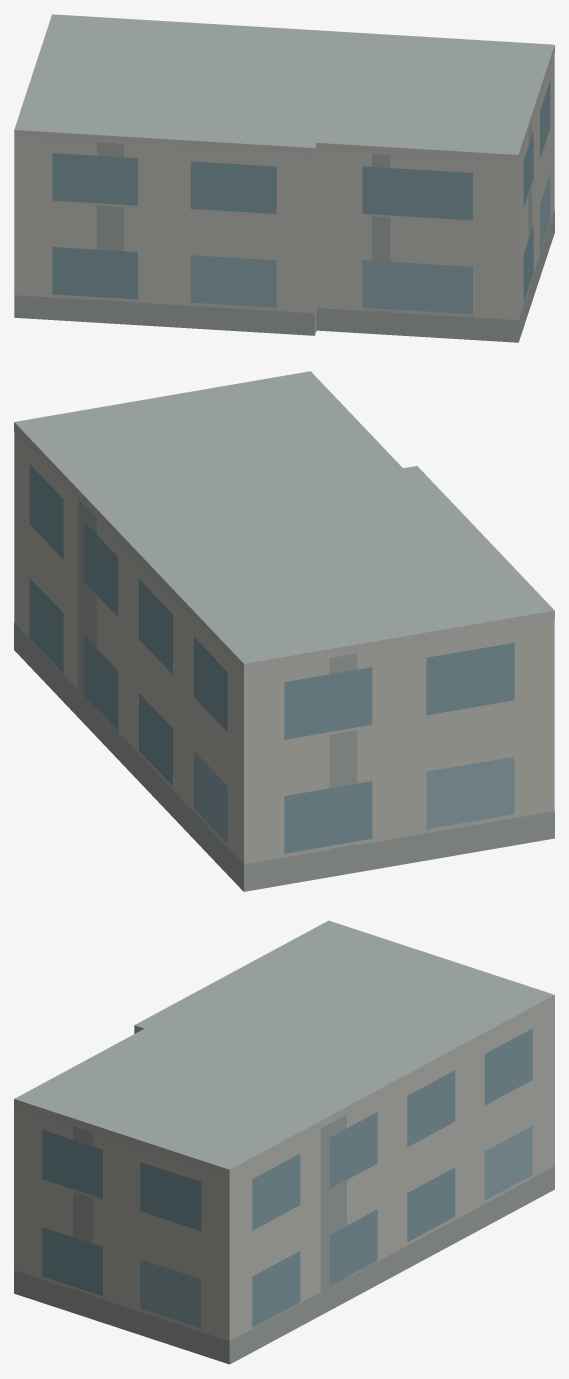
Rendered from survey-upis-32819192.glb.
3 views of the same model, one above another, from view 1: azimuth 30°, elevation 25°; view 2: azimuth 150°, elevation 25°; view 3: azimuth 270°, elevation 25° (orthographic). The views are drawn at different scales.
Parts seen in each view (by area): view 1: survey-upis-32819192.tmp; view 2: survey-upis-32819192.tmp; view 3: survey-upis-32819192.tmp.
Boxes of the visible parts, box(x1,y1,x2,y2) form: survey-upis-32819192.tmp: box(14, 14, 554, 342); survey-upis-32819192.tmp: box(14, 371, 554, 891); survey-upis-32819192.tmp: box(14, 920, 554, 1364).
Size of the model in its own units: 16.77 by 6.1 by 15.37.
